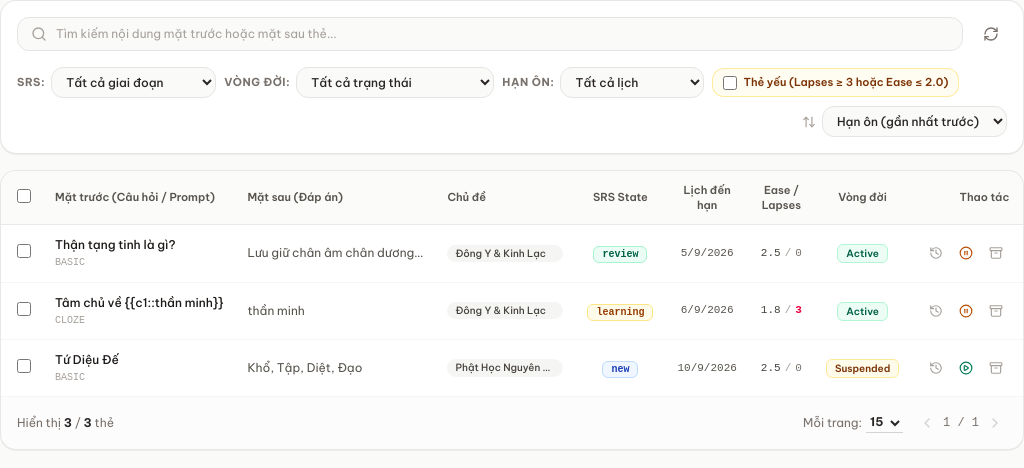
Test: Phase F6.5 — Card Browser Component (CardBrowser.tsx) › 2. filters table in real-time when typing in search bar
This screenshot has width=1024, height=468.
Type "Tứ Diệu Đế" into the field with test id "input-card-search" at (490, 34), box left=17, top=17, right=963, bottom=51
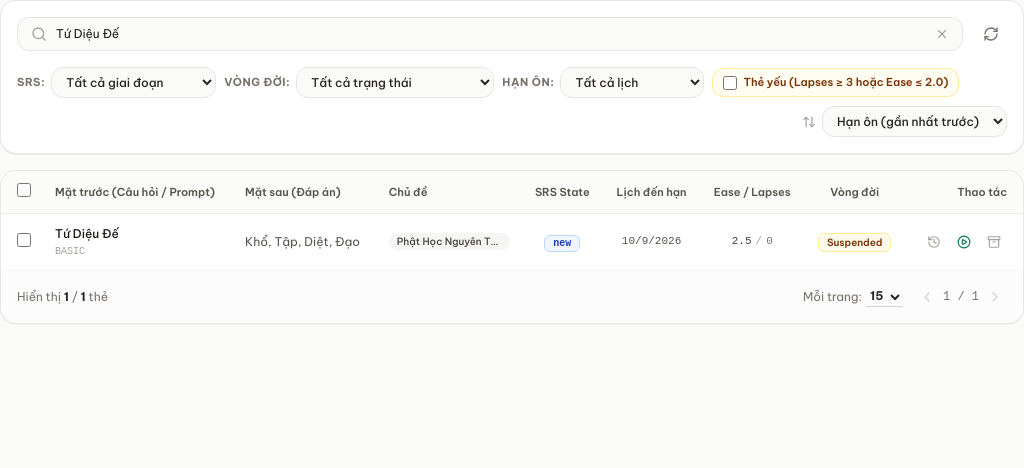
Check: the row with test id "card-row-c-3" is shown, box left=1, top=213, right=1023, bottom=270
Check: the row with test id "card-row-c-1" is gone
Check: the row with test id "card-row-c-2" is gone
